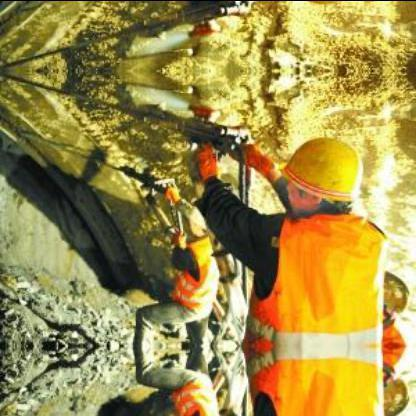Helmet: (274, 127, 366, 217)
